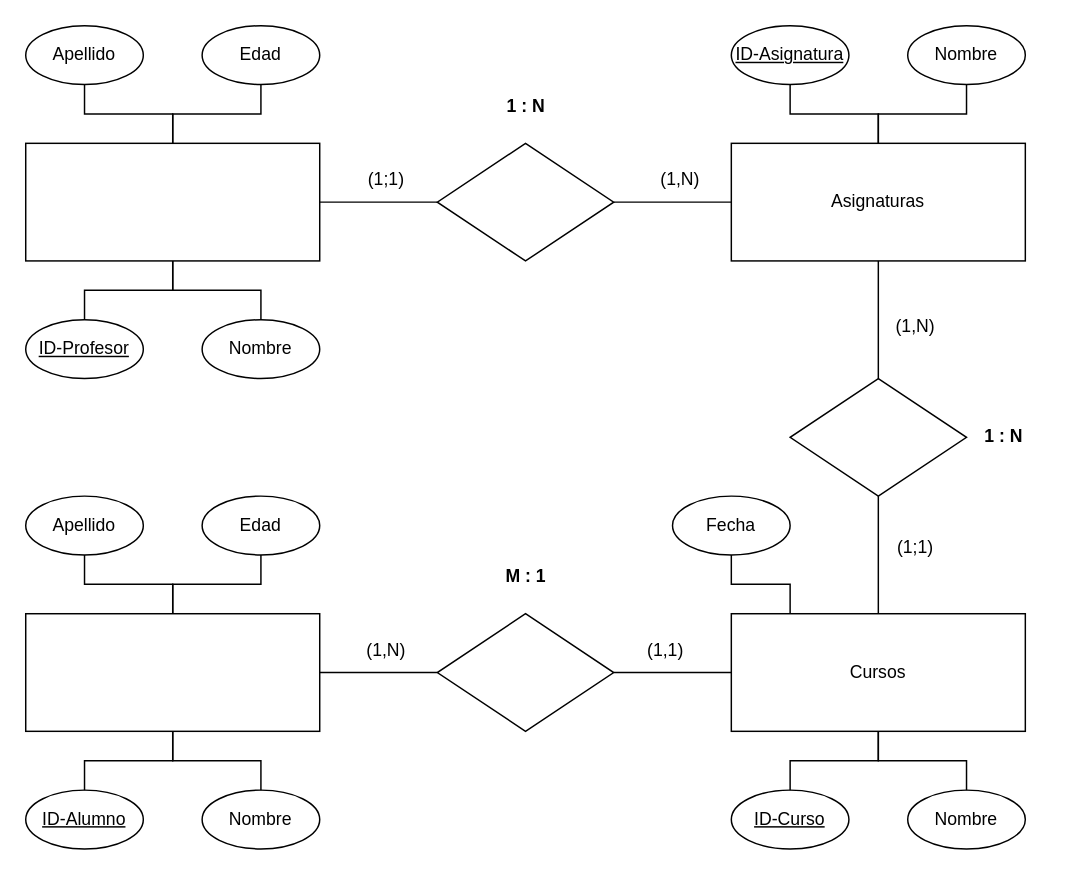
The diagram is 1066 pixels wide and 875 high, and some of its shapes have lost their labels. The centre of each missing label's shape, as x and y in pixels:
"Alumnos" goes at point 172,671.
"Asignadas" goes at point 878,436.
"Estudiando" goes at point 525,671.
"Imparte" goes at point 525,201.
"Profesores" goes at point 172,201.
